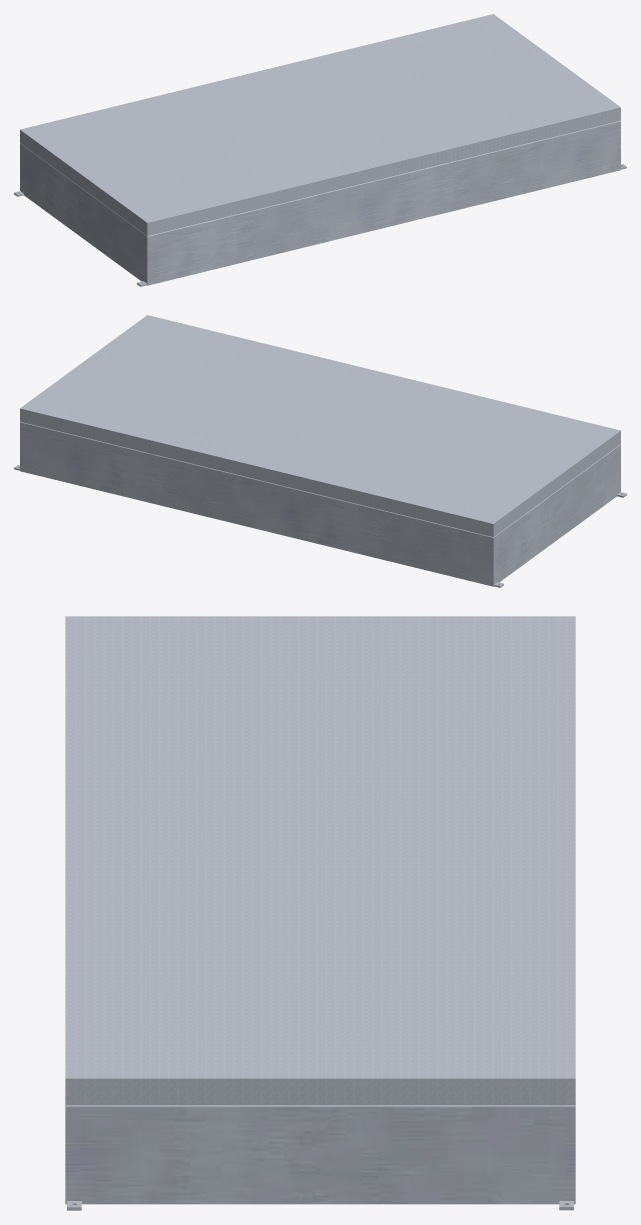
File: K00879 Wheelie Table 300 3m Granit.glb
The picture shows the model from 3 angles, top to bottom: view 1: azimuth 30°, elevation 25°; view 2: azimuth 150°, elevation 25°; view 3: azimuth 270°, elevation 25°; orthographic projection. The views are drawn at different scales.
Parts seen in each view (by area): view 1: K00879 Wheelie Table 300 3m Granit; view 2: K00879 Wheelie Table 300 3m Granit; view 3: K00879 Wheelie Table 300 3m Granit.
Boxes of the visible parts, <box> form: K00879 Wheelie Table 300 3m Granit: <box>14,14,626,286</box>; K00879 Wheelie Table 300 3m Granit: <box>14,315,626,587</box>; K00879 Wheelie Table 300 3m Granit: <box>65,616,575,1210</box>.
Size of the model in its own units: 3080 by 380 by 1400.
Materials: 4 (3 with a texture image).
